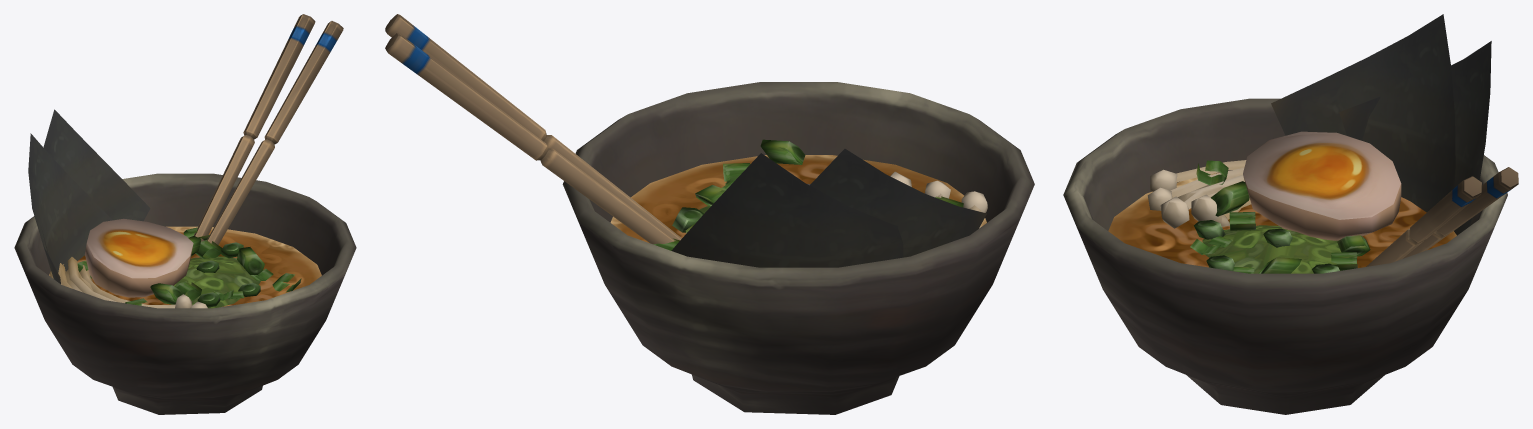
File: ramen4.glb
3 views of the same model, side by side, from view 1: azimuth 30°, elevation 25°; view 2: azimuth 150°, elevation 25°; view 3: azimuth 270°, elevation 25° (orthographic). The views are drawn at different scales.
Visible parts, largest first — view 1: Ramen_Bow_006_Pack_02_Free_0, Object1541_Pack_02_Free_0, Object1542_Pack_02_Free_0, Object1549_Pack_02_Free_0, SF_Chopstick_Pack_02_Free_0, SF_Chopstick001_Pack_02_Free_0, Ramen_Shoyu_004_Pack_02_Free_0, Object1543_Pack_02_Free_0, Object1548_Pack_02_Free_0, Object1545_Pack_02_Free_0; view 2: Ramen_Bow_006_Pack_02_Free_0, Object1541_Pack_02_Free_0, Object1549_Pack_02_Free_0, SF_Chopstick_Pack_02_Free_0, Ramen_Shoyu_004_Pack_02_Free_0, SF_Chopstick001_Pack_02_Free_0, Object1548_Pack_02_Free_0; view 3: Ramen_Bow_006_Pack_02_Free_0, Object1549_Pack_02_Free_0, Object1542_Pack_02_Free_0, Object1541_Pack_02_Free_0, Ramen_Shoyu_004_Pack_02_Free_0, Object1548_Pack_02_Free_0, Object1543_Pack_02_Free_0, SF_Chopstick001_Pack_02_Free_0, SF_Chopstick_Pack_02_Free_0, Object1545_Pack_02_Free_0, Object1546_Pack_02_Free_0, Object1544_Pack_02_Free_0.
Part boxes in pixels (x1,y1,x2,y2): Ramen_Bow_006_Pack_02_Free_0: (14, 173, 356, 414); Object1541_Pack_02_Free_0: (41, 109, 301, 307); Object1542_Pack_02_Free_0: (85, 218, 193, 297); Object1549_Pack_02_Free_0: (28, 133, 112, 283); SF_Chopstick_Pack_02_Free_0: (194, 14, 315, 241); SF_Chopstick001_Pack_02_Free_0: (207, 21, 343, 244); Ramen_Shoyu_004_Pack_02_Free_0: (49, 226, 321, 306); Object1543_Pack_02_Free_0: (173, 256, 260, 308); Object1548_Pack_02_Free_0: (49, 257, 207, 308); Object1545_Pack_02_Free_0: (237, 247, 264, 274); Ramen_Bow_006_Pack_02_Free_0: (562, 82, 1034, 414); Object1541_Pack_02_Free_0: (653, 139, 963, 267); Object1549_Pack_02_Free_0: (810, 149, 986, 257); SF_Chopstick_Pack_02_Free_0: (385, 33, 675, 244); Ramen_Shoyu_004_Pack_02_Free_0: (610, 155, 986, 243); SF_Chopstick001_Pack_02_Free_0: (385, 14, 681, 240); Object1548_Pack_02_Free_0: (890, 171, 987, 228); Ramen_Bow_006_Pack_02_Free_0: (1063, 98, 1507, 414); Object1549_Pack_02_Free_0: (1271, 14, 1455, 212); Object1542_Pack_02_Free_0: (1243, 131, 1401, 240); Object1541_Pack_02_Free_0: (1190, 41, 1491, 273); Ramen_Shoyu_004_Pack_02_Free_0: (1108, 172, 1456, 267); Object1548_Pack_02_Free_0: (1147, 160, 1251, 228); Object1543_Pack_02_Free_0: (1202, 225, 1341, 273); SF_Chopstick001_Pack_02_Free_0: (1366, 176, 1481, 266); SF_Chopstick_Pack_02_Free_0: (1402, 167, 1518, 258); Object1545_Pack_02_Free_0: (1258, 257, 1301, 273); Object1546_Pack_02_Free_0: (1229, 212, 1255, 230); Object1544_Pack_02_Free_0: (1263, 228, 1292, 247).
Size of the model in its own units: 1.08 by 0.7074 by 0.8729.
1 material, 1 textured.
